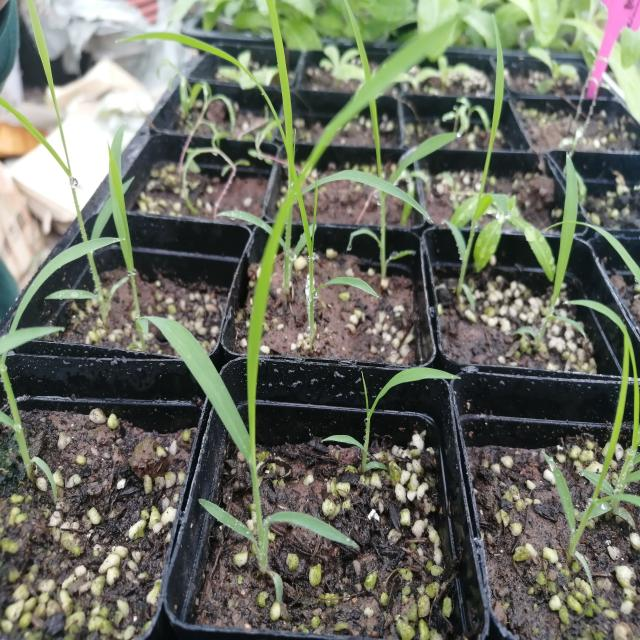crabgrass: (156, 102, 368, 584), (21, 45, 175, 322)
